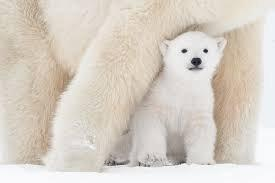bear: (112, 23, 231, 172)
